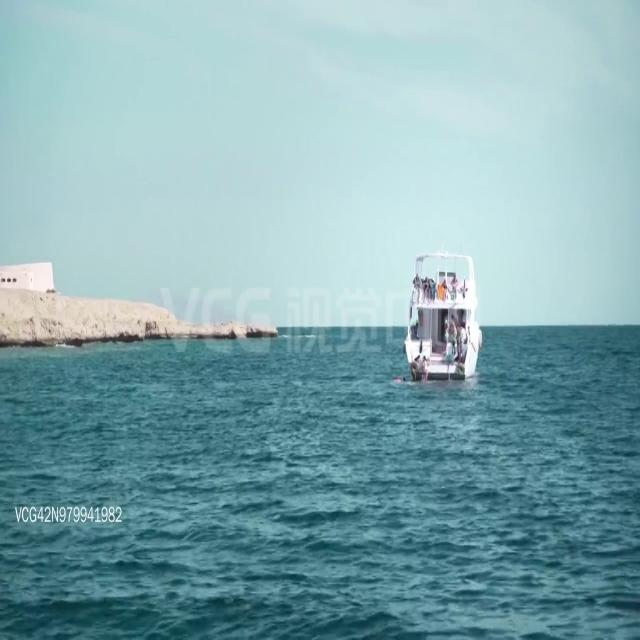houseboat: (407, 239, 480, 384)
